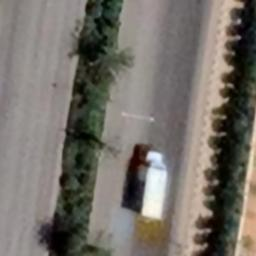truck: (124, 140, 167, 223)
